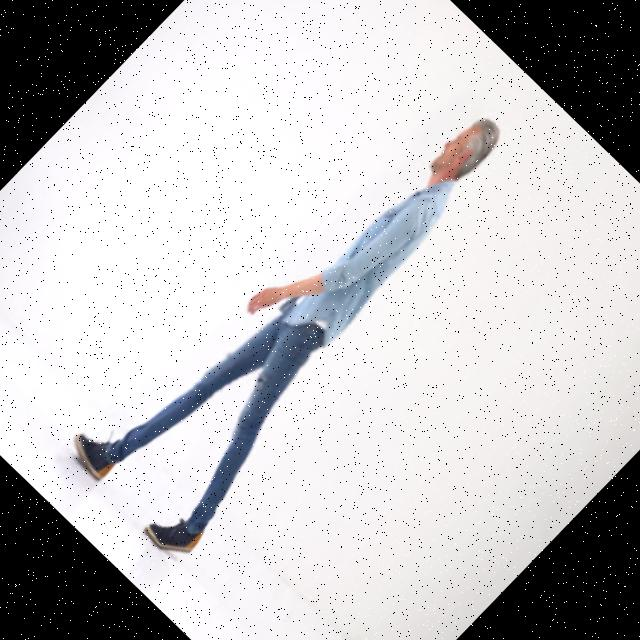Person: (58, 65, 552, 568)
